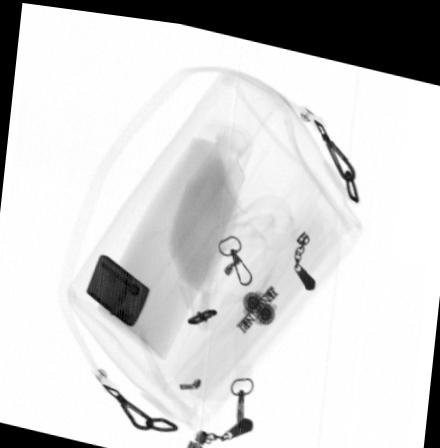Lighter: (85, 251, 150, 323)
